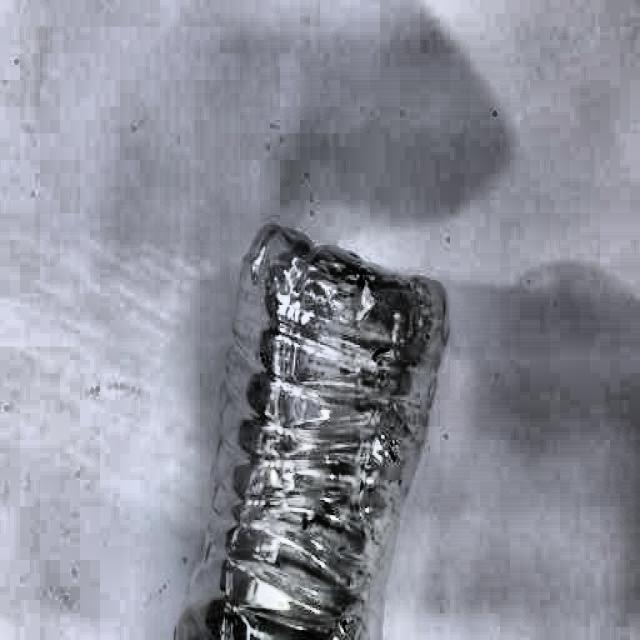plastic: (203, 221, 451, 640)
